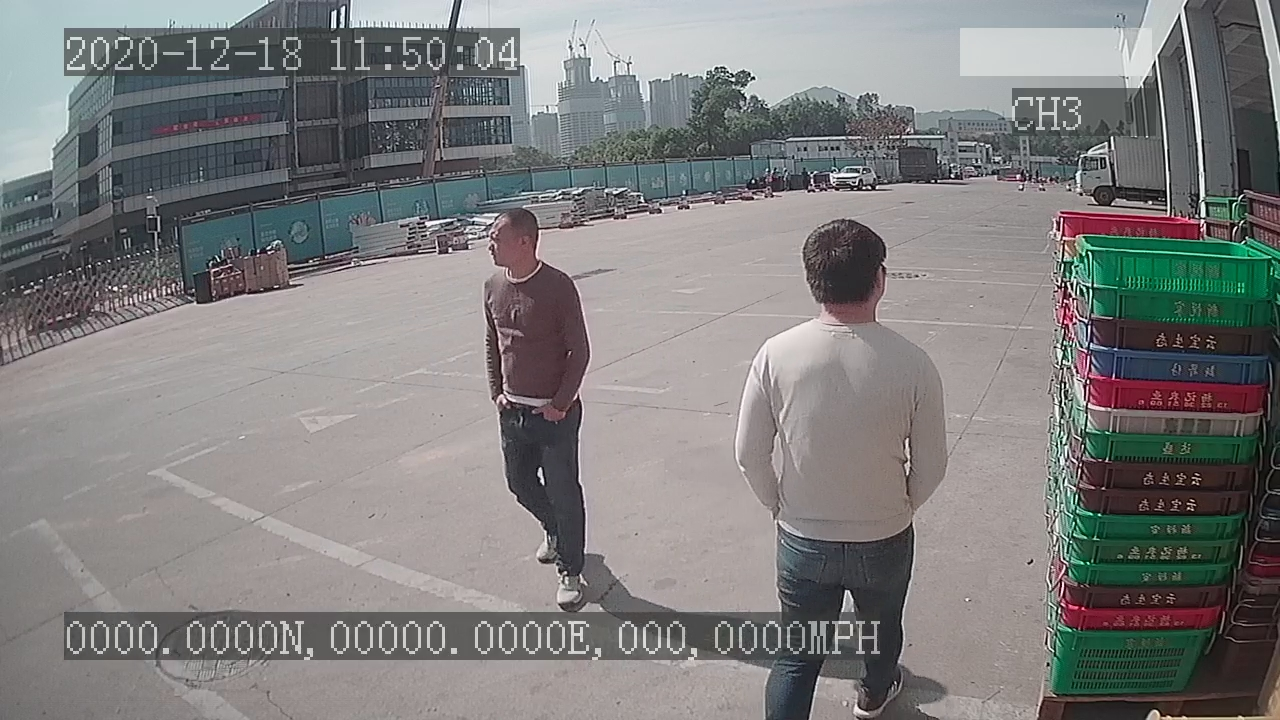person: (479, 204, 597, 611)
